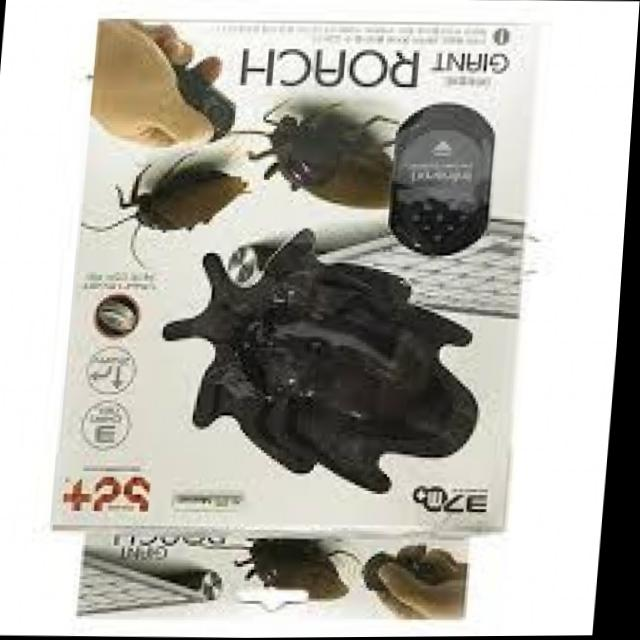Cockroach: (82, 136, 268, 273)
